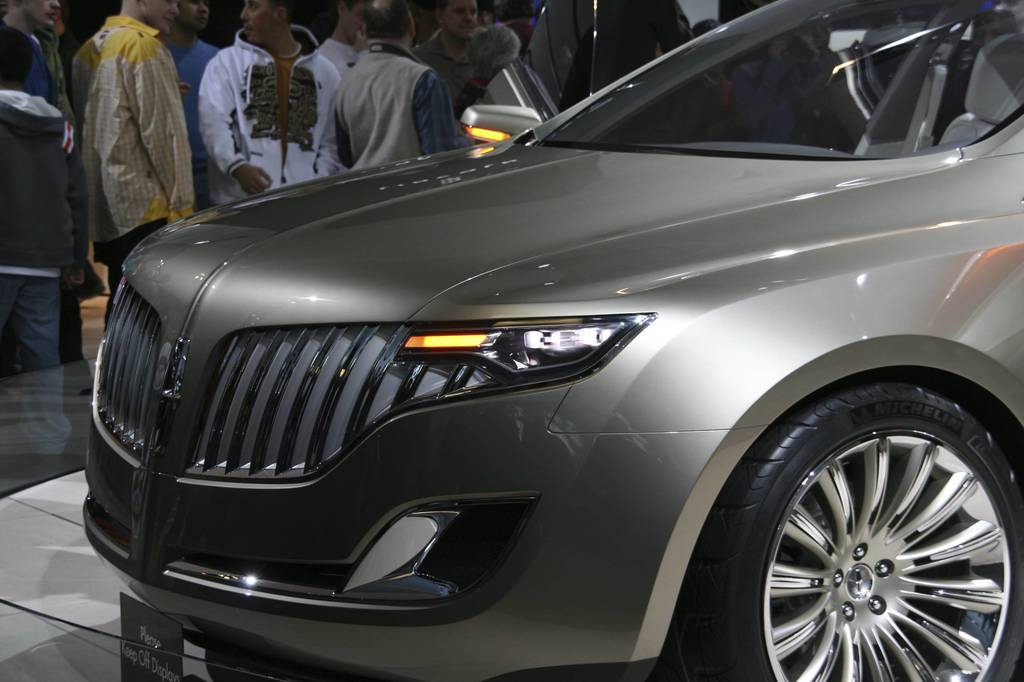Person: (0, 0, 1020, 473)
